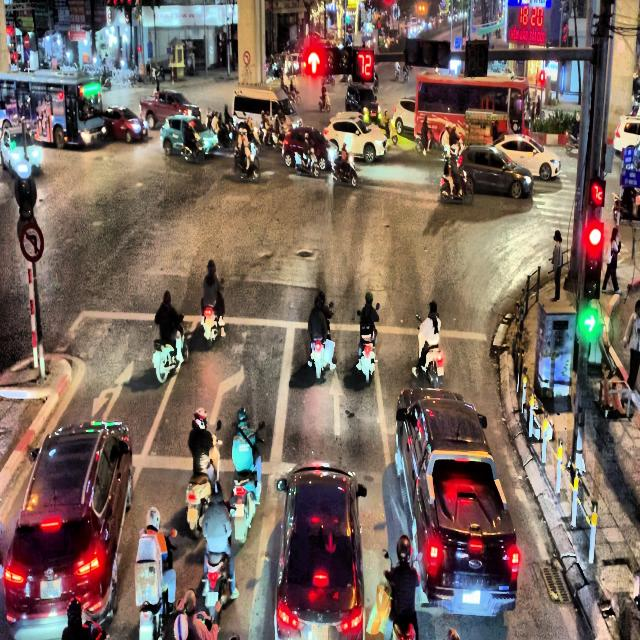BUS: (413, 72, 531, 149), (0, 71, 106, 149)
CAR: (3, 419, 134, 639), (412, 449, 520, 617), (274, 462, 367, 640), (394, 388, 490, 523), (456, 144, 534, 199), (491, 134, 561, 182), (323, 112, 387, 163), (160, 114, 219, 163), (282, 126, 339, 172), (139, 89, 201, 130), (0, 127, 41, 177), (102, 105, 148, 144), (345, 83, 381, 121), (613, 115, 640, 156), (392, 97, 415, 135)
MOTORBIKE: (134, 527, 177, 639), (229, 422, 265, 544), (185, 420, 222, 538), (198, 499, 236, 610), (411, 313, 444, 389), (152, 317, 189, 383), (308, 301, 334, 378), (440, 153, 474, 205), (356, 308, 378, 384), (200, 280, 224, 348), (330, 151, 358, 187), (234, 144, 260, 182), (294, 148, 319, 178), (377, 118, 398, 146), (415, 128, 436, 153), (318, 91, 330, 112)
